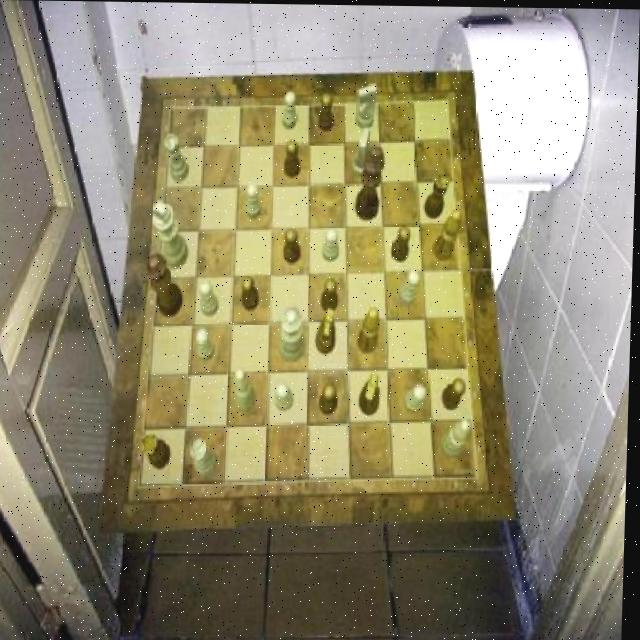bishop: (434, 208, 463, 261), (359, 306, 382, 352)
black-bishop: (355, 146, 386, 220)
black-king: (316, 307, 337, 353), (360, 372, 382, 415)
black-knight: (444, 378, 468, 410), (392, 225, 412, 261), (283, 139, 301, 177), (284, 228, 303, 263), (318, 91, 335, 130), (322, 276, 340, 311), (243, 275, 261, 310), (320, 384, 340, 415)
black-pawn: (146, 252, 185, 317)
black-queen: (424, 171, 450, 217), (144, 433, 174, 469)
black-rook: (442, 419, 473, 458), (233, 367, 258, 412)
white-bishop: (153, 199, 191, 268)
white-king: (352, 126, 373, 177), (356, 82, 378, 128)
white-knight: (400, 269, 422, 305), (199, 281, 220, 316), (197, 329, 217, 361), (283, 91, 299, 130), (323, 227, 341, 261), (246, 183, 263, 219), (407, 384, 428, 411), (278, 382, 296, 410)
white-pawn: (280, 305, 308, 361)
white-queen: (164, 134, 189, 182), (193, 438, 221, 475)
